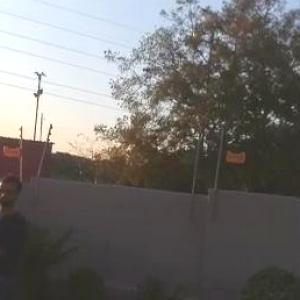follow: (0, 171, 42, 299)
